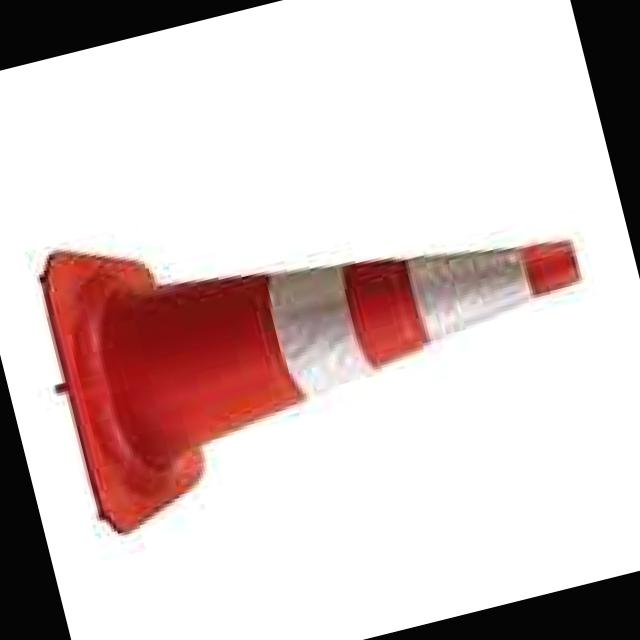cone: (10, 125, 616, 554)
